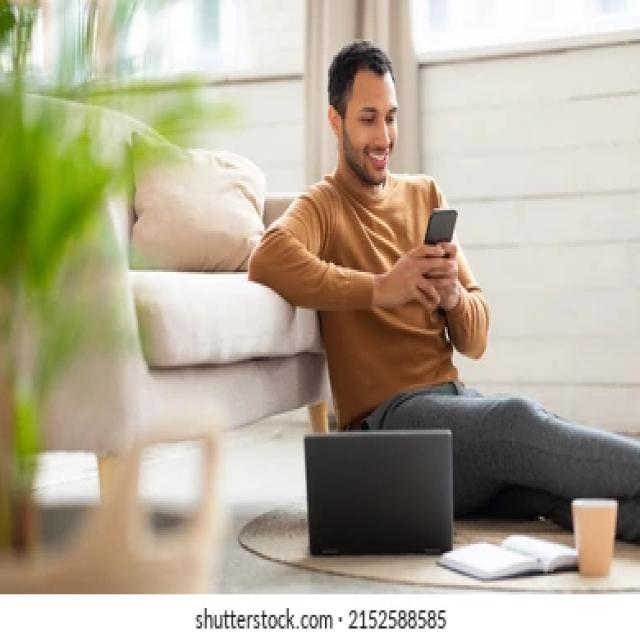smartphone-person: (246, 36, 477, 413)
